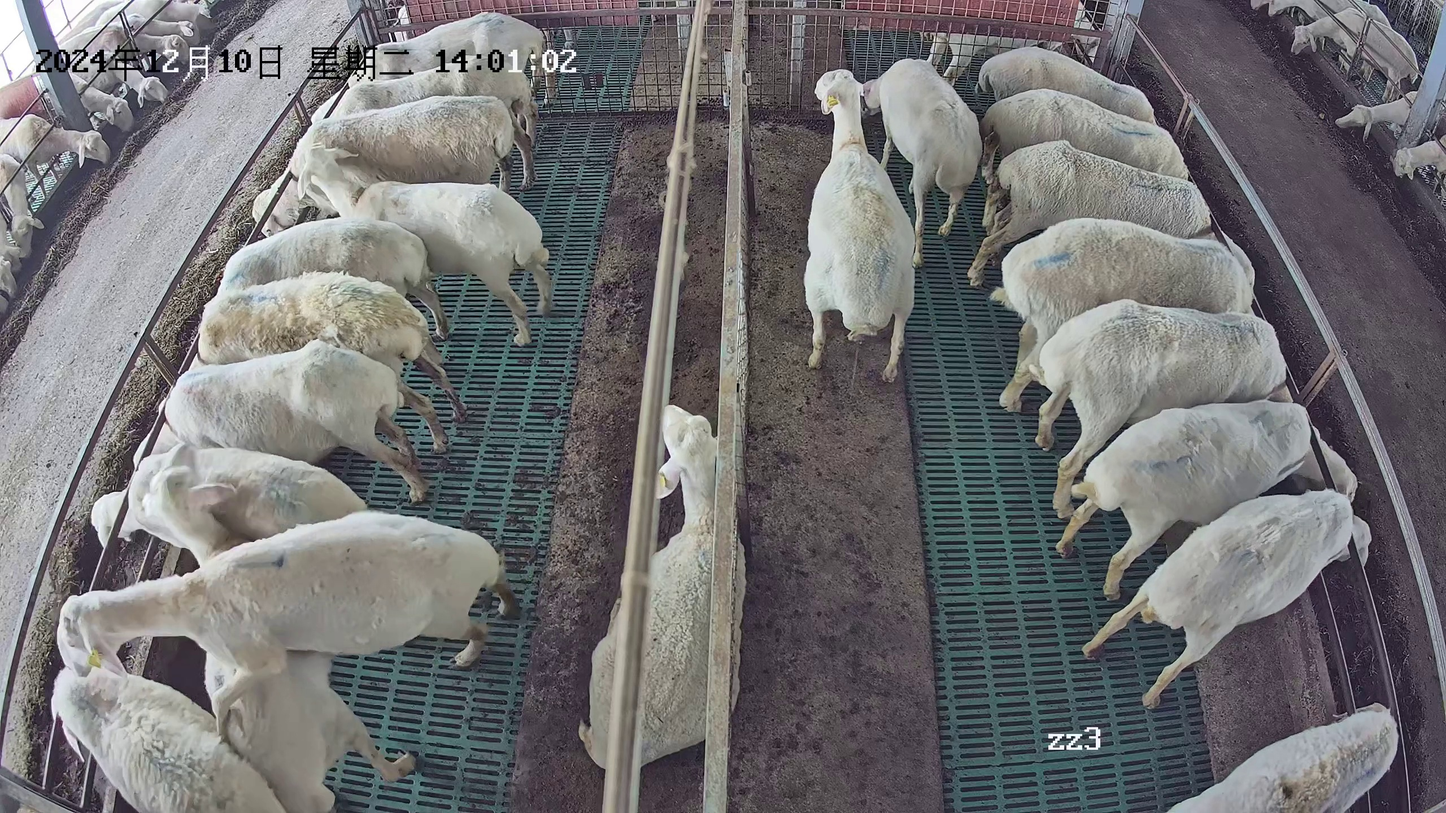Nmounting: (54, 507, 519, 703)
